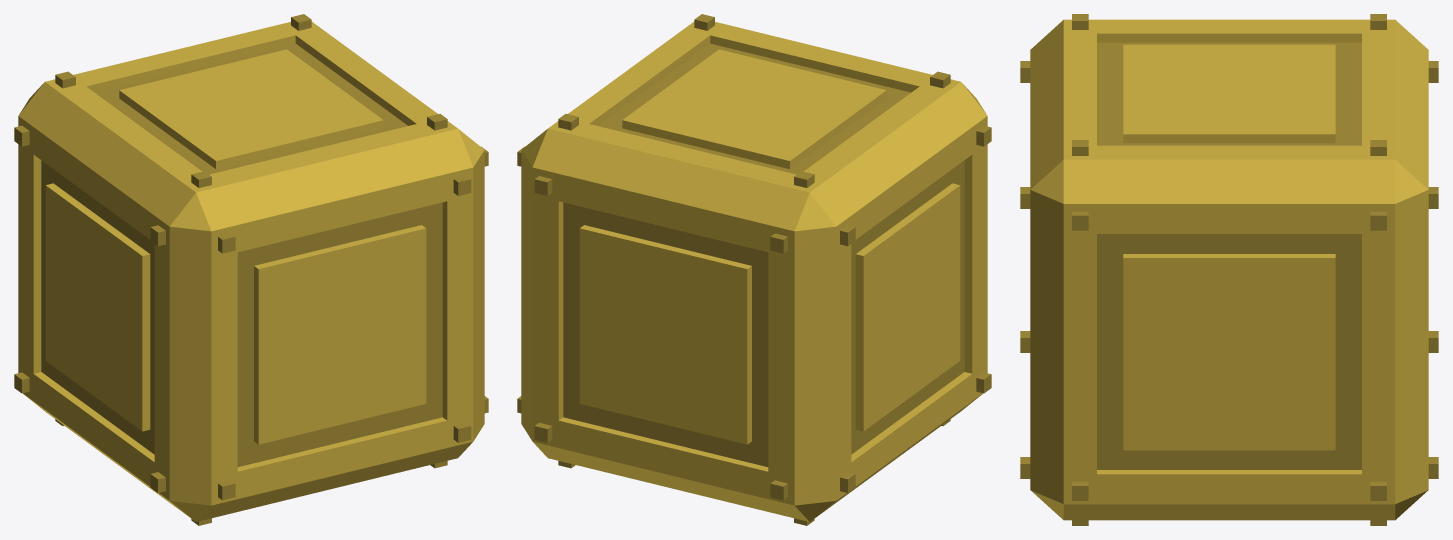
Rendered from YellowBox.glb.
3 views of the same model, side by side, from view 1: azimuth 30°, elevation 25°; view 2: azimuth 150°, elevation 25°; view 3: azimuth 270°, elevation 25° (orthographic). The views are drawn at different scales.
Visible parts, largest first — view 1: YellowBox; view 2: YellowBox; view 3: YellowBox.
Boxes of the visible parts, x1=… form: YellowBox: x1=14, y1=14, x2=488, y2=525; YellowBox: x1=517, y1=14, x2=991, y2=525; YellowBox: x1=1020, y1=14, x2=1438, y2=525.
Bounding box in the file's own units: 1.04 × 1.04 × 1.04.
